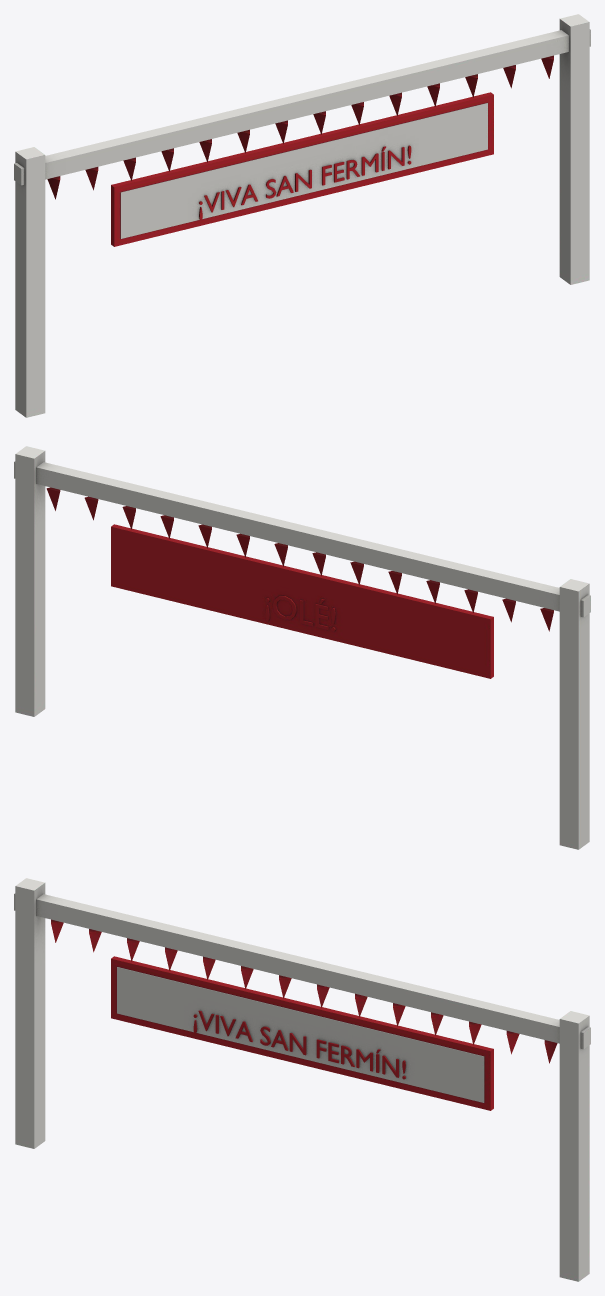
Rendered from arco_san_fermin.glb.
3 views of the same model, one above another, from view 1: azimuth 30°, elevation 25°; view 2: azimuth 150°, elevation 25°; view 3: azimuth 330°, elevation 25° (orthographic).
Visible parts, largest first — view 1: arco_san_fermin; view 2: arco_san_fermin; view 3: arco_san_fermin.
Boxes of the visible parts, <box> form: arco_san_fermin: <box>14,14,590,417</box>; arco_san_fermin: <box>14,446,590,849</box>; arco_san_fermin: <box>14,878,590,1281</box>.
Bounding box in the file's own units: 18 × 7.8 × 0.6.
Materials: 1 (1 with a texture image).
